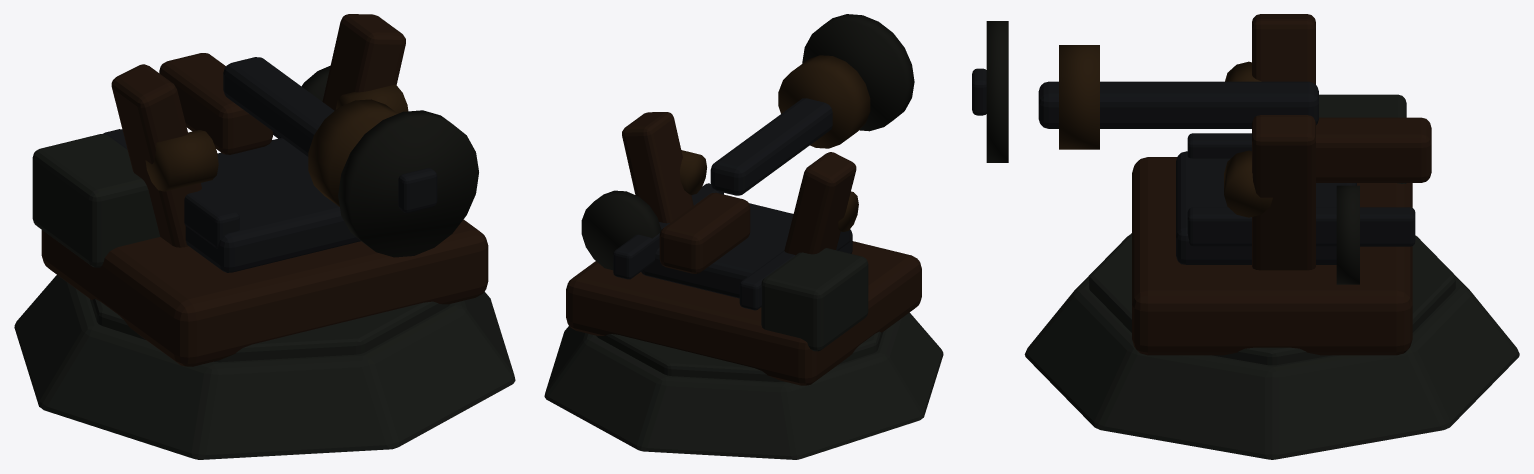
Rendered from TowerBounce2.obj.
3 renders of one model, left to right at view 1: azimuth 30°, elevation 25°; view 2: azimuth 150°, elevation 25°; view 3: azimuth 270°, elevation 25°, orthographic. The views are drawn at different scales.
Visible parts, largest first — view 1: cut_stone_socket_lower_course, heavy_oak_table, throwing_disc, iron_swivel, stone_ammunition_chest, oak_throwing_cheek, cut_stone_socket_upper_course, counterweight_beam, iron_throw_arm, oak_throwing_cheek.001, bronze_sling_drum, bronze_pivot_pin (+4 smaller); view 2: cut_stone_socket_lower_course, heavy_oak_table, stone_ammunition_chest, throwing_disc, iron_throw_arm, oak_throwing_cheek.001, counterweight_beam, iron_swivel, bronze_sling_drum, oak_throwing_cheek, cut_stone_socket_upper_course, reserve_disc (+4 smaller); view 3: cut_stone_socket_lower_course, heavy_oak_table, iron_throw_arm, oak_throwing_cheek.001, counterweight_beam, cut_stone_socket_upper_course, iron_stabiliser.001, iron_swivel, oak_throwing_cheek, bronze_sling_drum, throwing_disc, reserve_disc (+4 smaller).
Part boxes in pixels (box(x1,y1,x2,y2)): cut_stone_socket_lower_course: box(14, 275, 515, 459); heavy_oak_table: box(41, 219, 488, 366); throwing_disc: box(338, 110, 478, 257); iron_swivel: box(185, 138, 360, 272); stone_ammunition_chest: box(32, 134, 160, 267); oak_throwing_cheek: box(111, 64, 201, 247); cut_stone_socket_upper_course: box(90, 299, 450, 362); counterweight_beam: box(159, 53, 272, 154); iron_throw_arm: box(223, 57, 334, 156); oak_throwing_cheek.001: box(322, 14, 405, 110); bronze_sling_drum: box(308, 99, 397, 206); bronze_pivot_pin: box(145, 130, 218, 191); cut_stone_socket_lower_course: box(544, 312, 943, 459); heavy_oak_table: box(566, 241, 921, 385); stone_ammunition_chest: box(761, 248, 868, 351); throwing_disc: box(802, 14, 914, 131); iron_throw_arm: box(710, 98, 832, 195); oak_throwing_cheek.001: box(622, 112, 693, 223); counterweight_beam: box(659, 192, 750, 273); iron_swivel: box(641, 203, 852, 298); bronze_sling_drum: box(778, 55, 870, 148); oak_throwing_cheek: box(784, 152, 856, 255); cut_stone_socket_upper_course: box(596, 331, 883, 381); reserve_disc: box(581, 190, 661, 270); cut_stone_socket_lower_course: box(1024, 235, 1519, 459); heavy_oak_table: box(1132, 157, 1412, 355); iron_throw_arm: box(1038, 81, 1318, 128); oak_throwing_cheek.001: box(1252, 115, 1315, 270); counterweight_beam: box(1316, 117, 1431, 182); cut_stone_socket_upper_course: box(1089, 233, 1455, 365); iron_stabiliser.001: box(1187, 207, 1415, 246); iron_swivel: box(1176, 151, 1356, 264); oak_throwing_cheek: box(1252, 14, 1315, 84); bronze_sling_drum: box(1059, 45, 1099, 149); throwing_disc: box(986, 21, 1008, 162); reserve_disc: box(1336, 185, 1359, 284).
Bounding box in the file's own units: 1.69 × 1.25 × 1.87.
